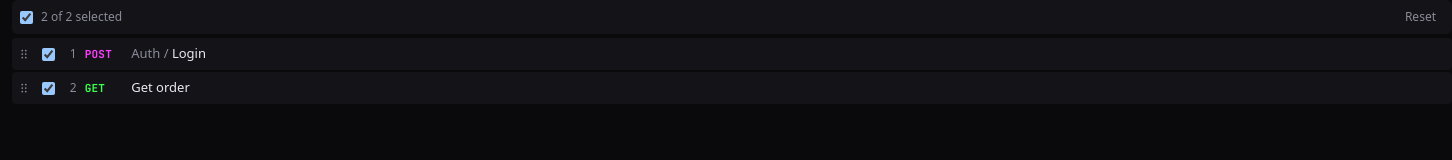
Test: RunOrderList › toggles rows, shows a mixed select-all, and selects all again
Click the checkbox named "Run Login" at (48,54), box [42,48,55,60]
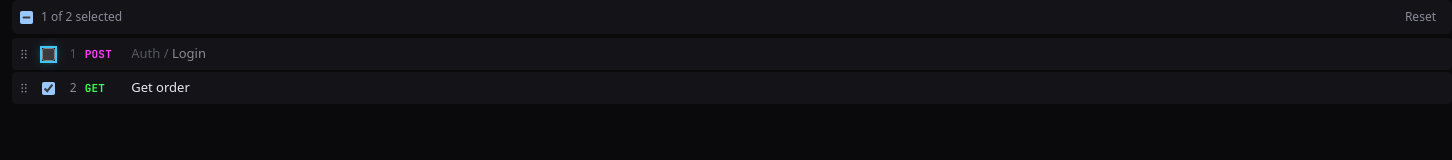
Check: the text "1 of 2 selected" is shown, box [41,8,122,26]
Click the checkbox named "Select all requests" at (26,17), box [20,10,33,24]
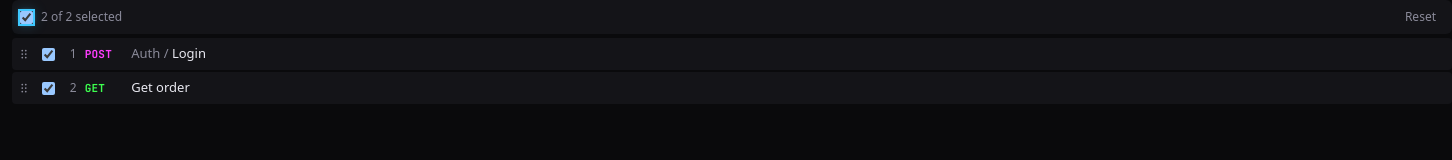
Click the checkbox named "Select all requests" at (26,17), box [20,10,33,24]
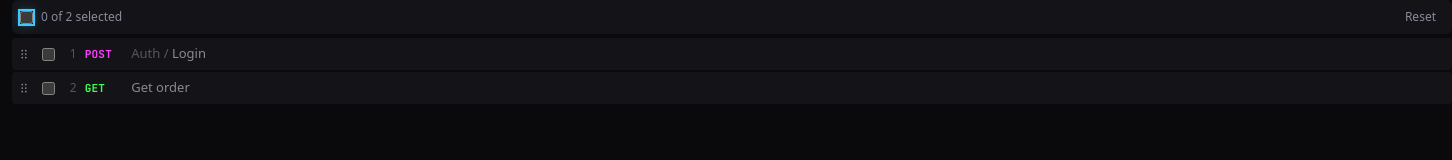
Check: the text "0 of 2 selected" is shown, box [41,8,122,26]
